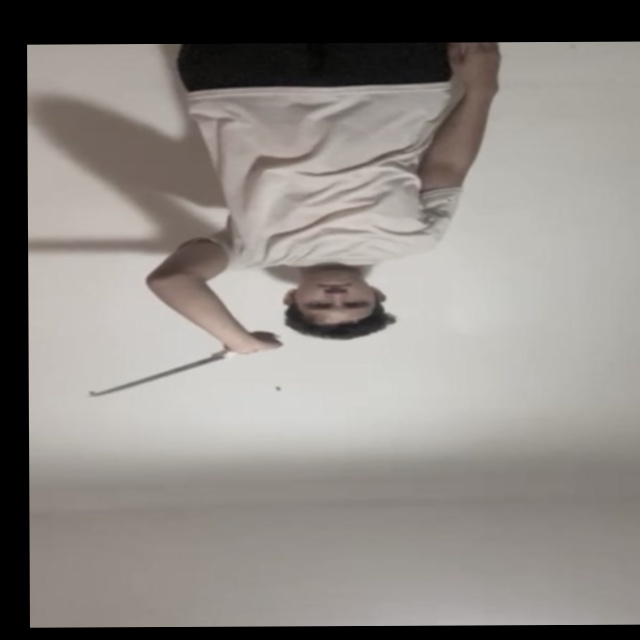Sharp-Object: (95, 358, 220, 396)
